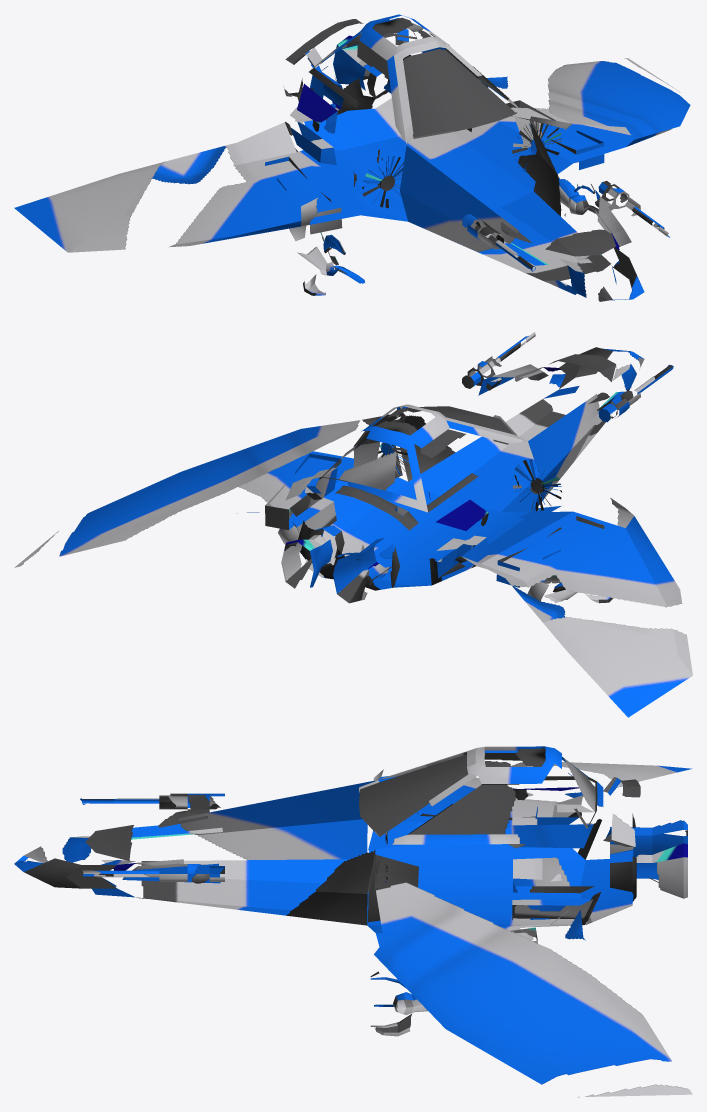
Rendered from Player_Standard.FBX.
3 renders of one model, top to bottom at view 1: azimuth 30°, elevation 25°; view 2: azimuth 150°, elevation 25°; view 3: azimuth 270°, elevation 25°, orthographic. The views are drawn at different scales.
Visible parts, largest first — view 1: Player_Standard; view 2: Player_Standard; view 3: Player_Standard.
Boxes of the visible parts, x1=… form: Player_Standard: x1=14, y1=14, x2=690, y2=301; Player_Standard: x1=14, y1=332, x2=692, y2=717; Player_Standard: x1=14, y1=746, x2=692, y2=1097.
Bounding box in the file's own units: 5.09 × 1.45 × 4.41.
